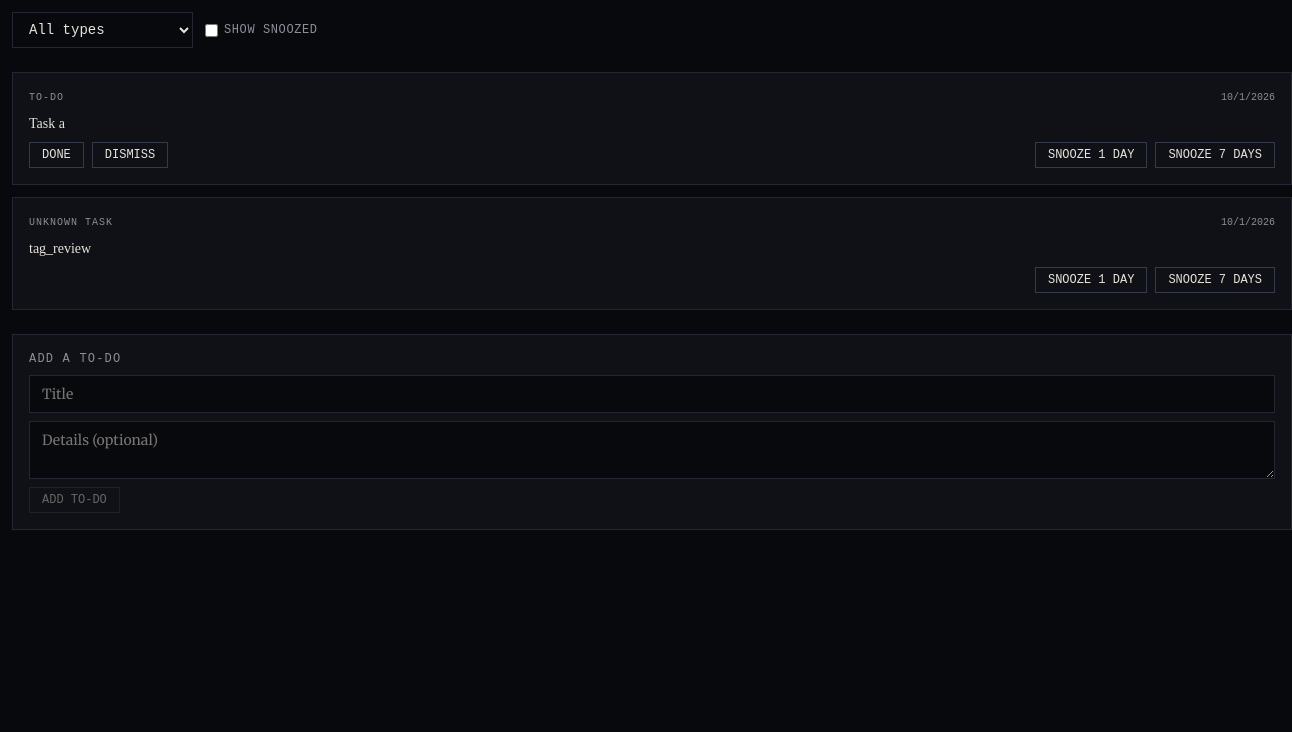
Test: the type filter narrows the list
Check: the text "Task a" is shown, box 29,116 -> 65,131
Check: the text "tag_review" is shown, box 29,241 -> 91,256
Select "To-do (1)" in the dropdown named "filter by type" at (102, 30), box 12,12 -> 193,48
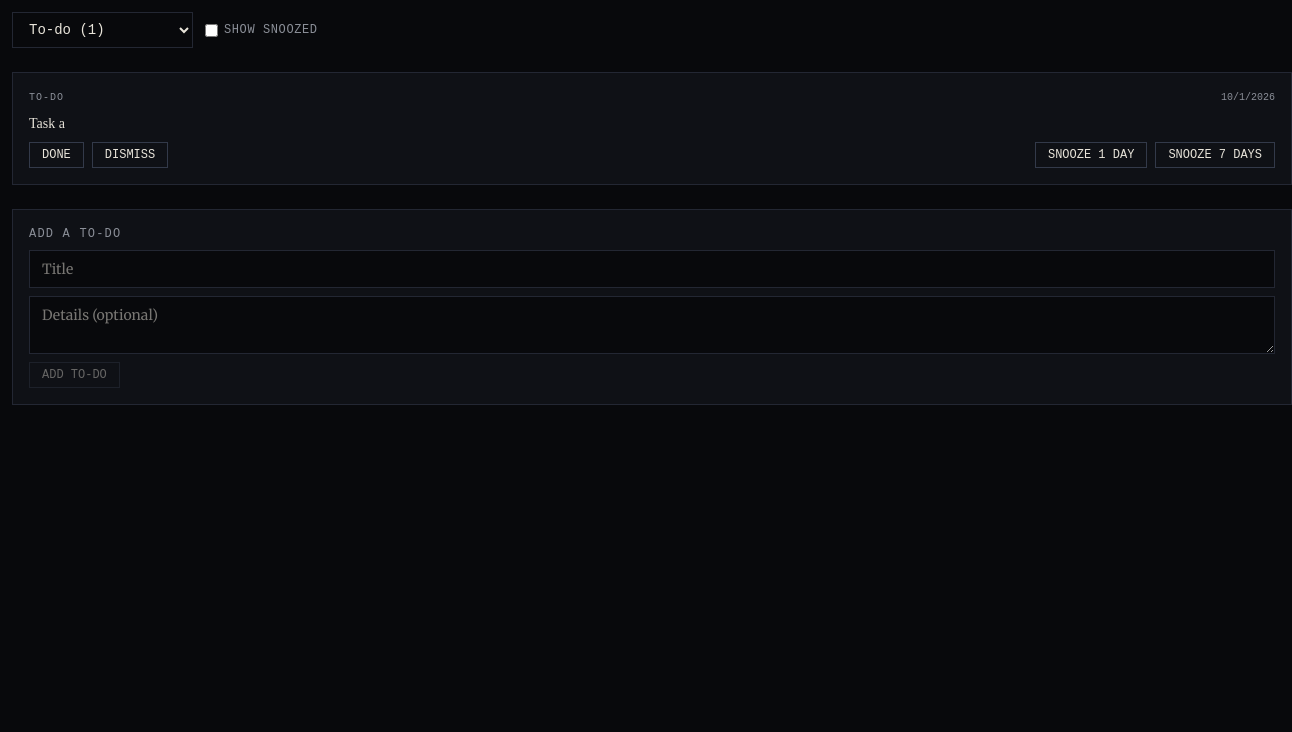
Check: the text "Task a" is shown, box 29,116 -> 65,131
Check: the text "tag_review" is gone
